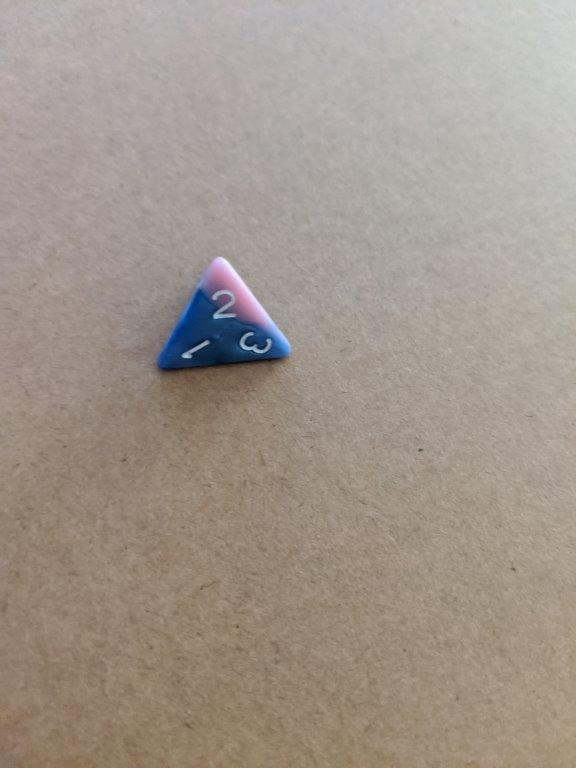d4-2: (152, 241, 296, 381)
